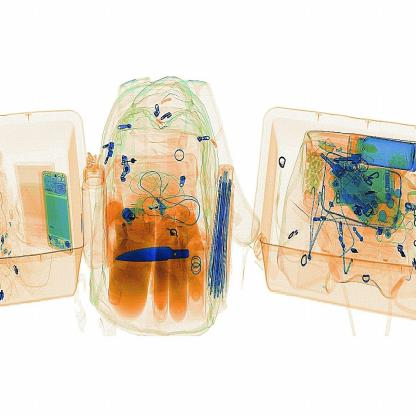wrench: (108, 242, 213, 273)
